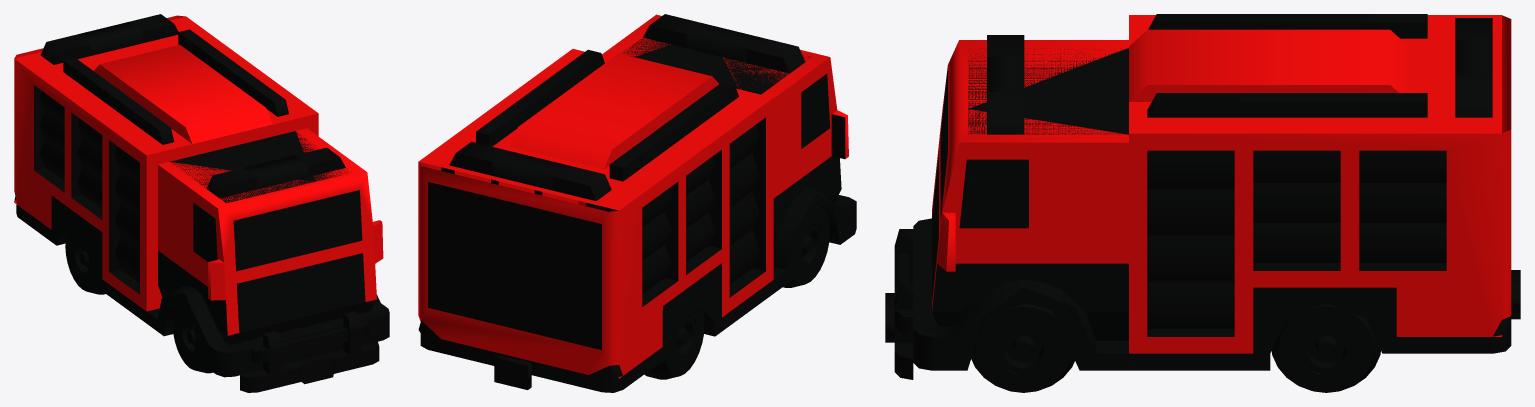
File: firetruck.glb
3 views of the same model, side by side, from view 1: azimuth 30°, elevation 25°; view 2: azimuth 150°, elevation 25°; view 3: azimuth 270°, elevation 25° (orthographic). The views are drawn at different scales.
Parts seen in each view (by area): view 1: body, grill, wheel-front-right, wheel-back-right; view 2: body, wheel-back-right, wheel-front-right; view 3: body, wheel-back-left, wheel-front-left, grill.
Part boxes in pixels (bbox=[...]): body: bbox=[14, 14, 389, 377]; grill: bbox=[240, 311, 379, 392]; wheel-front-right: bbox=[172, 303, 212, 373]; wheel-back-right: bbox=[65, 224, 105, 294]; body: bbox=[418, 14, 856, 392]; wheel-back-right: bbox=[644, 299, 704, 379]; wheel-front-right: bbox=[783, 206, 829, 287]; body: bbox=[913, 14, 1520, 370]; wheel-back-left: bbox=[1271, 303, 1380, 392]; wheel-front-left: bbox=[971, 303, 1074, 392]; grill: bbox=[885, 229, 931, 379].
Size of the model in its own units: 1.5 by 1.7 by 3.4.
1 material, 1 textured.
